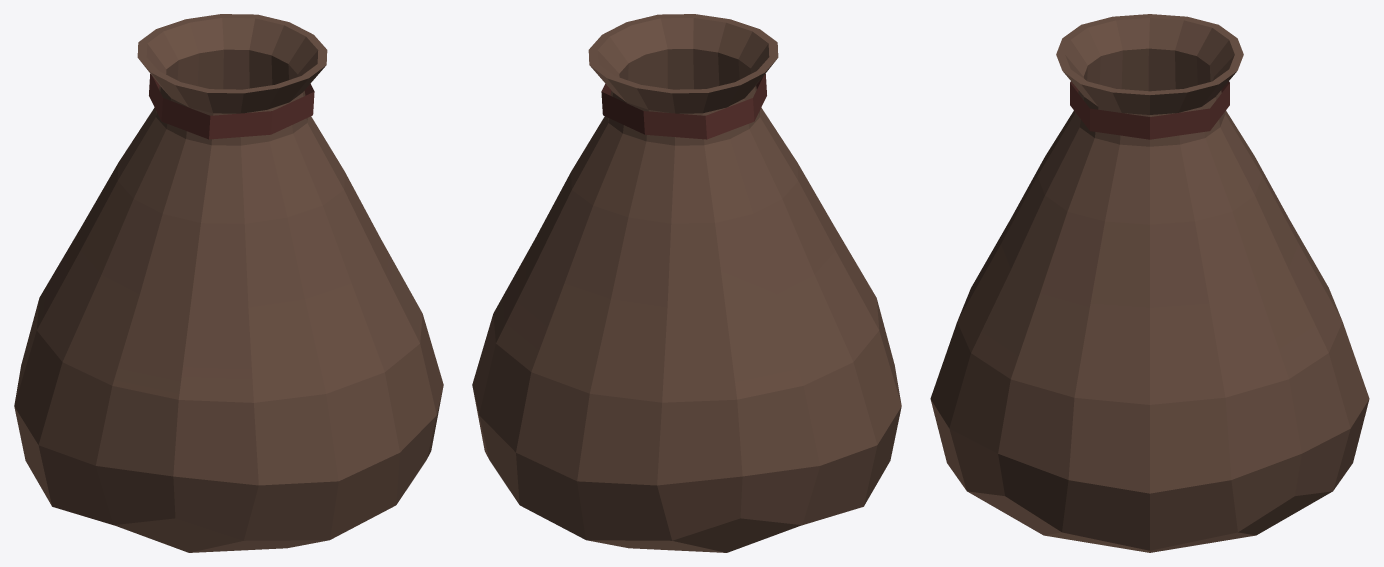
Rendered from pouch.glb.
3 renders of one model, left to right at view 1: azimuth 30°, elevation 25°; view 2: azimuth 150°, elevation 25°; view 3: azimuth 270°, elevation 25°, orthographic.
Parts seen in each view (by area): view 1: Bag; view 2: Bag; view 3: Bag.
Boxes of the visible parts, left/top/right/bottom form: Bag: left=14, top=14, right=443, bottom=552; Bag: left=472, top=14, right=901, bottom=552; Bag: left=930, top=14, right=1369, bottom=552.
Size of the model in its own units: 0.4704 by 0.5477 by 0.4704.
